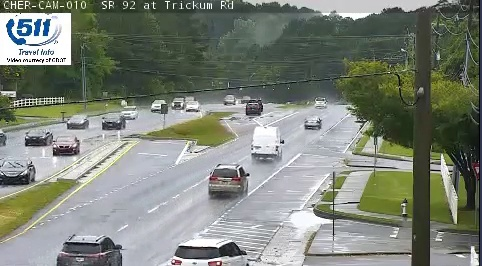car: (57, 236, 122, 266), (209, 165, 247, 193), (304, 116, 321, 130)
van: (252, 127, 281, 158)
